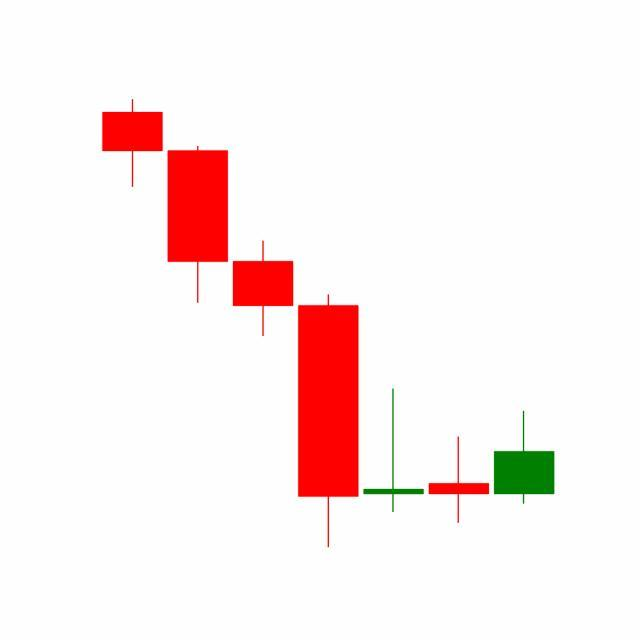Hikkake Pattern: (165, 142, 492, 549)
